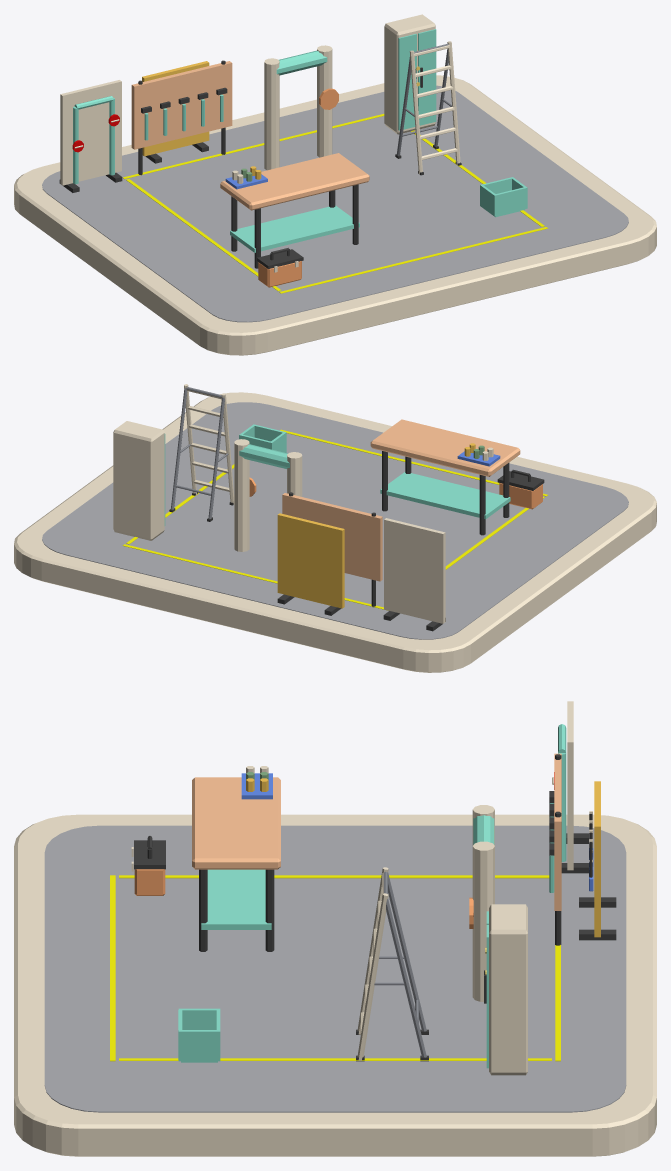
The picture shows the model from 3 angles, top to bottom: view 1: azimuth 30°, elevation 25°; view 2: azimuth 150°, elevation 25°; view 3: azimuth 270°, elevation 25°; orthographic projection. The views are drawn at different scales.
Parts seen in each view (by area): view 1: COM-02 Floor Surface, COM-01 Rounded Base Direct, Peg board, Panel, Worktop, Lower shelf, Equipment case, Pipe, Door.001, Pipe.001, Door, Panel.001 (+9 smaller); view 2: COM-02 Floor Surface, COM-01 Rounded Base Direct, Equipment case, Panel, Panel.001, Worktop, Peg board, Lower shelf, Pipe.001, Cross pipe, Box, Pipe (+7 smaller); view 3: COM-02 Floor Surface, COM-01 Rounded Base Direct, Worktop, Equipment case, Lower shelf, Pipe.001, Bin side.001, Peg board, Panel, Work zone stripe, Rail.001, Work zone end (+11 smaller).
Part boxes in pixels (x1,y1,x2,y2): COM-02 Floor Surface: [42, 85, 628, 322]; COM-01 Rounded Base Direct: [14, 75, 656, 355]; Peg board: [131, 61, 232, 149]; Panel: [60, 80, 121, 185]; Worktop: [220, 153, 369, 210]; Lower shelf: [230, 205, 359, 252]; Equipment case: [384, 14, 435, 134]; Pipe: [264, 58, 279, 170]; Door.001: [418, 29, 436, 125]; Pipe.001: [317, 45, 332, 157]; Door: [398, 34, 416, 130]; Panel.001: [142, 61, 209, 156]; COM-02 Floor Surface: [42, 402, 628, 639]; COM-01 Rounded Base Direct: [14, 392, 656, 672]; Equipment case: [113, 421, 164, 540]; Panel: [384, 518, 445, 623]; Panel.001: [277, 513, 344, 608]; Worktop: [370, 419, 520, 476]; Peg board: [282, 493, 382, 581]; Lower shelf: [380, 472, 510, 519]; Pipe.001: [234, 439, 249, 551]; Cross pipe: [239, 444, 289, 468]; Box: [499, 483, 542, 509]; Pipe: [287, 452, 302, 496]; COM-02 Floor Surface: [44, 825, 626, 1112]; COM-01 Rounded Base Direct: [14, 814, 656, 1156]; Worktop: [192, 777, 280, 869]; Equipment case: [489, 904, 527, 1075]; Lower shelf: [201, 869, 271, 929]; Pipe.001: [472, 841, 494, 1001]; Bin side.001: [178, 1030, 220, 1061]; Peg board: [554, 753, 561, 910]; Panel: [567, 701, 573, 870]; Work zone stripe: [119, 875, 549, 878]; Rail.001: [357, 893, 388, 1060]; Work zone end: [110, 875, 115, 1061].
Size of the model in its own units: 6 by 1.78 by 5.2.
1 material, 1 textured.
